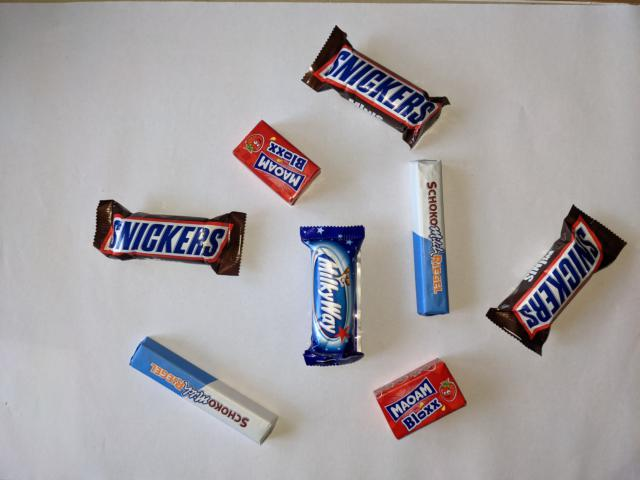MAOAM: (370, 355, 471, 444), (229, 117, 325, 208)
MilkyWay: (296, 221, 369, 370)
Schokoriegel: (126, 334, 282, 447), (403, 157, 453, 319)
Snickers: (482, 203, 630, 359), (297, 23, 452, 152), (91, 197, 249, 278)
